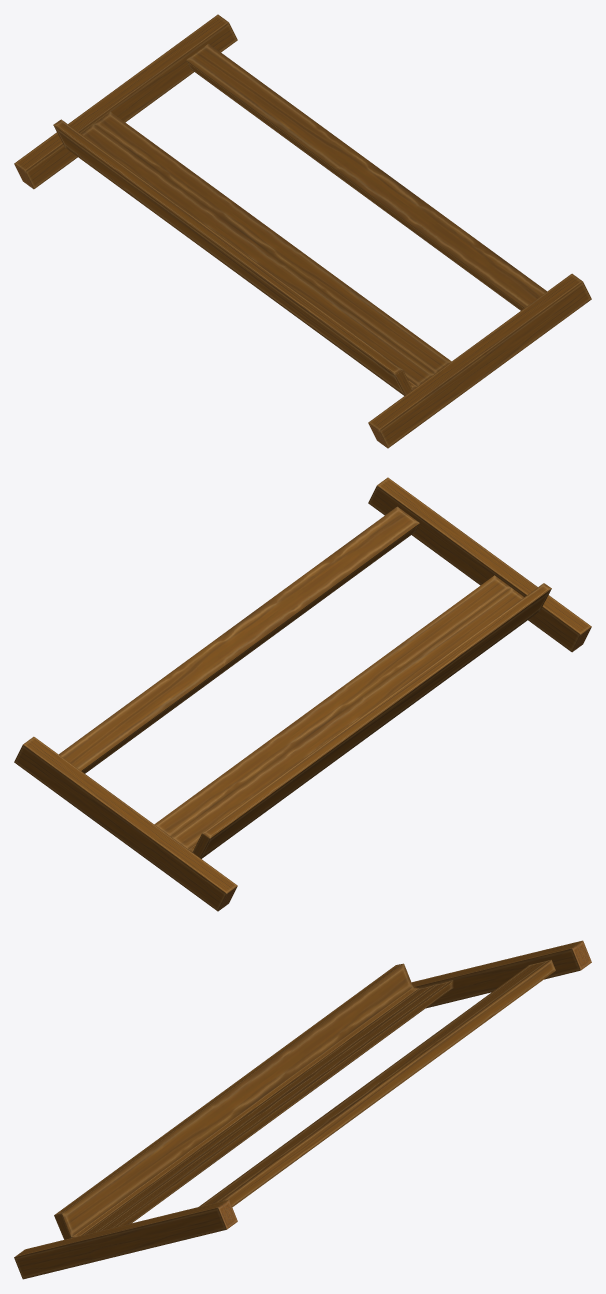
Rendered from SM_MarketTable_Addon.fbx.
3 renders of one model, top to bottom at view 1: azimuth 30°, elevation 25°; view 2: azimuth 150°, elevation 25°; view 3: azimuth 330°, elevation 25°, orthographic.
Parts seen in each view (by area): view 1: SM_MarketTable_Addon_LOD0; view 2: SM_MarketTable_Addon_LOD0; view 3: SM_MarketTable_Addon_LOD0.
Part boxes in pixels (<box>): SM_MarketTable_Addon_LOD0: <box>14,14,591,448</box>; SM_MarketTable_Addon_LOD0: <box>14,477,591,911</box>; SM_MarketTable_Addon_LOD0: <box>14,940,591,1279</box>.
Size of the model in its own units: 81.32 by 242 by 43.6.
